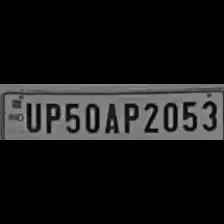0: (160, 98, 178, 132), (82, 100, 100, 132)
2: (140, 99, 160, 133)
3: (199, 96, 217, 132)
5: (178, 96, 198, 132), (61, 99, 81, 133)
A: (101, 100, 119, 134)
P: (42, 99, 60, 134), (120, 99, 138, 134)
U: (22, 100, 42, 132)
